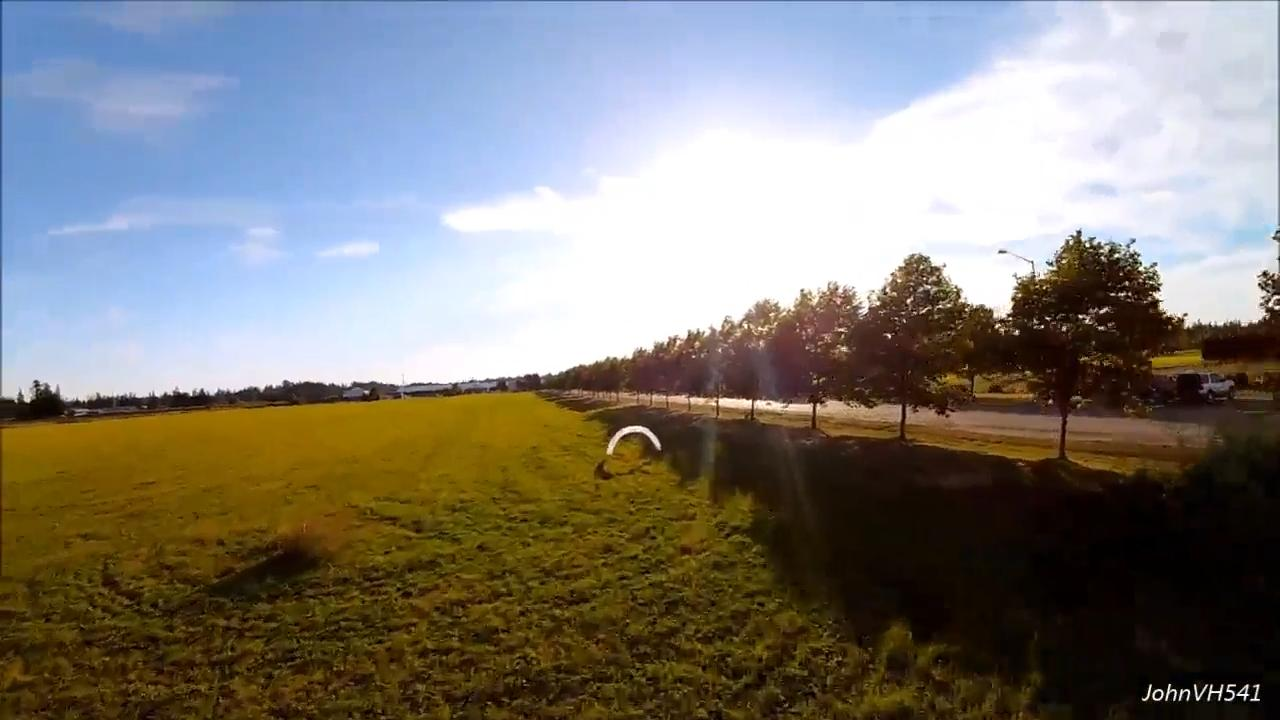gate: (603, 425, 666, 461)
